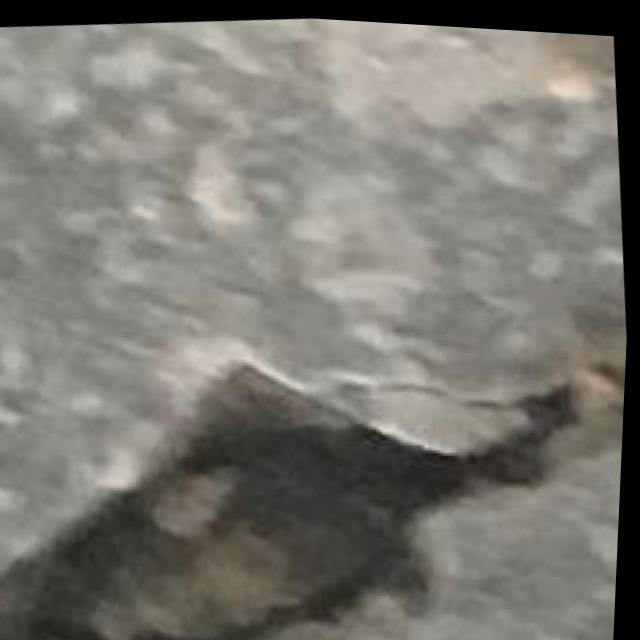Crack: (9, 289, 624, 640)
